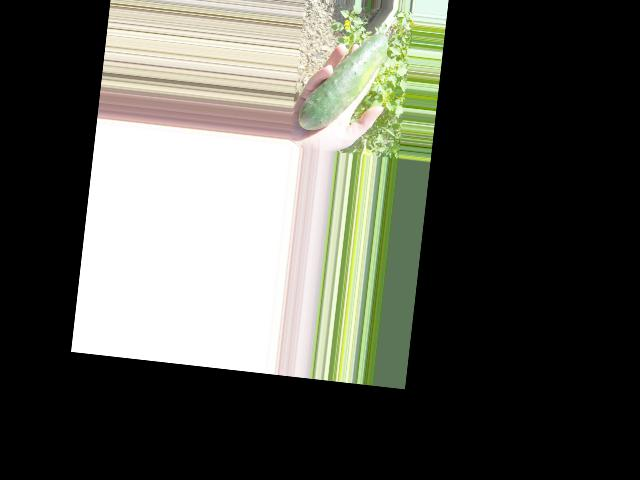cucumber: (297, 25, 388, 136)
